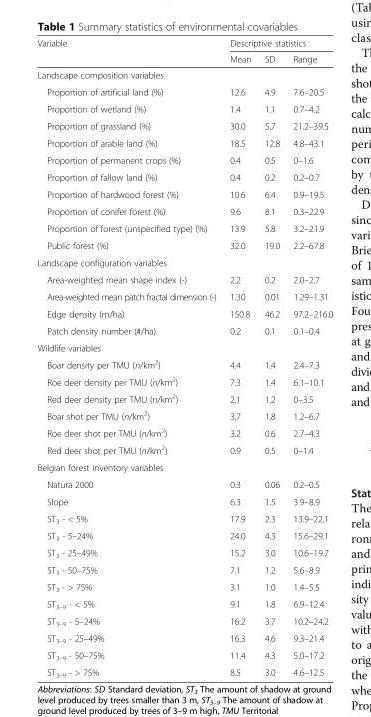table: (36, 37, 332, 677)
table column: (36, 37, 222, 677), (285, 37, 332, 677), (222, 37, 257, 677), (257, 37, 285, 677)
table column header: (36, 37, 332, 66)
table projected row header: (36, 66, 332, 83), (36, 253, 332, 270), (36, 458, 332, 475), (36, 339, 332, 355)
table row: (36, 304, 332, 322), (36, 440, 332, 458), (36, 509, 332, 527), (36, 66, 332, 83), (36, 83, 332, 100), (36, 100, 332, 117), (36, 117, 332, 134), (36, 134, 332, 151), (36, 151, 332, 168), (36, 168, 332, 185), (36, 185, 332, 202), (36, 202, 332, 219), (36, 219, 332, 236), (36, 236, 332, 253), (36, 253, 332, 270), (36, 270, 332, 287), (36, 287, 332, 304), (36, 322, 332, 339), (36, 355, 332, 372), (36, 372, 332, 389), (36, 389, 332, 406), (36, 406, 332, 423), (36, 423, 332, 440), (36, 458, 332, 475), (36, 475, 332, 492), (36, 492, 332, 509), (36, 527, 332, 544), (36, 544, 332, 561), (36, 561, 332, 578), (36, 578, 332, 595), (36, 595, 332, 612), (36, 612, 332, 629), (36, 629, 332, 646), (36, 646, 332, 663), (36, 50, 332, 66), (36, 339, 332, 355), (36, 663, 332, 677), (36, 37, 332, 50)
table spanning cell: (36, 37, 222, 66), (222, 37, 332, 50)
